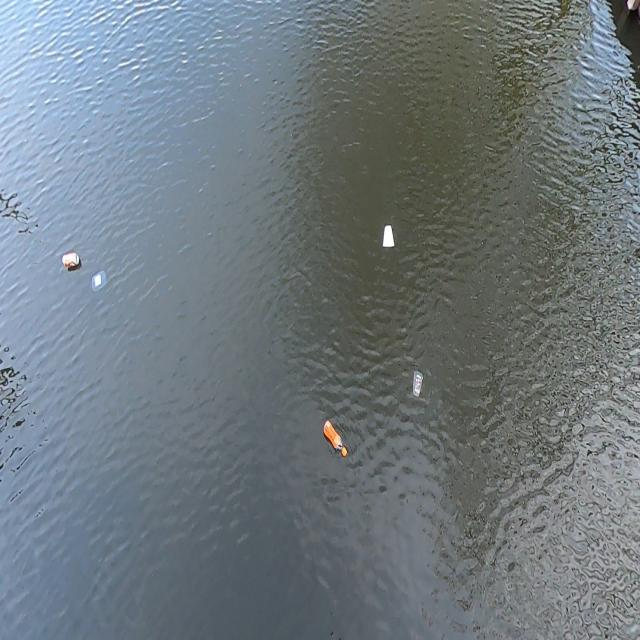Autre plastique: (89, 268, 110, 292), (412, 364, 424, 401)
Bouteille plastique: (319, 418, 349, 464)
Non plastique: (60, 249, 81, 276), (379, 220, 396, 251)
